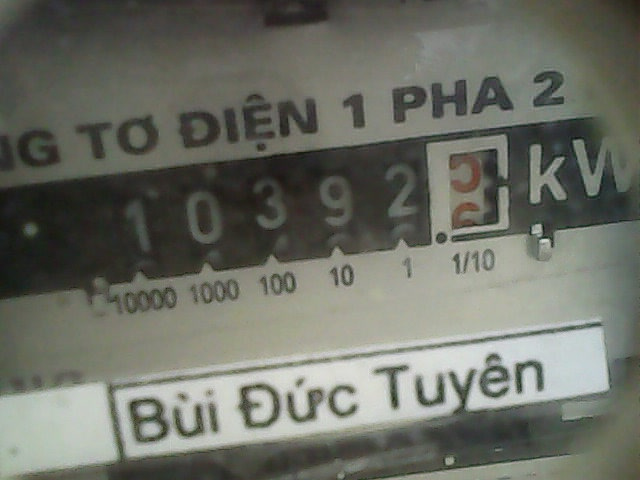phy_plate: (82, 131, 522, 270)
